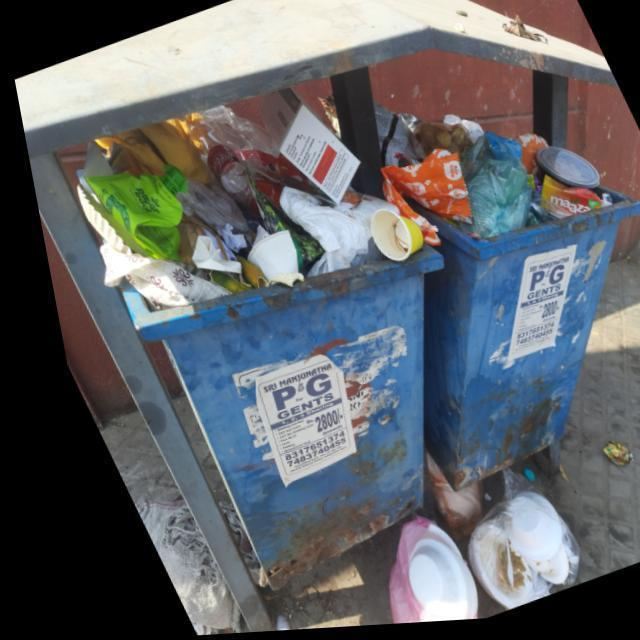Disposable: (445, 472, 557, 613), (365, 520, 453, 627), (408, 456, 463, 545), (127, 201, 128, 203)
Garbage: (56, 97, 622, 308), (359, 457, 571, 627), (413, 608, 415, 611)
Plastic: (80, 166, 179, 262), (529, 152, 591, 196), (505, 473, 515, 486), (223, 166, 224, 167)
Plastic_Bag: (195, 107, 300, 209), (271, 188, 389, 277), (451, 137, 522, 243), (168, 179, 239, 235), (405, 126, 466, 164), (520, 195, 562, 229)
Plastic_bottle: (178, 114, 250, 218)
Plastic_wraper: (239, 172, 314, 272), (369, 105, 415, 171), (585, 447, 614, 472), (522, 179, 534, 199), (592, 199, 603, 213)
Tetrapack: (532, 181, 593, 220)
